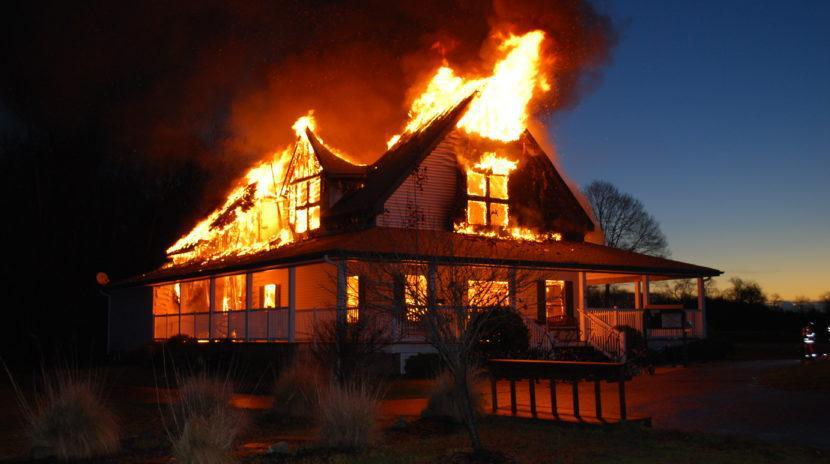fire: (160, 115, 331, 260), (388, 20, 556, 150), (334, 258, 584, 341), (444, 149, 565, 245), (164, 274, 294, 343)
